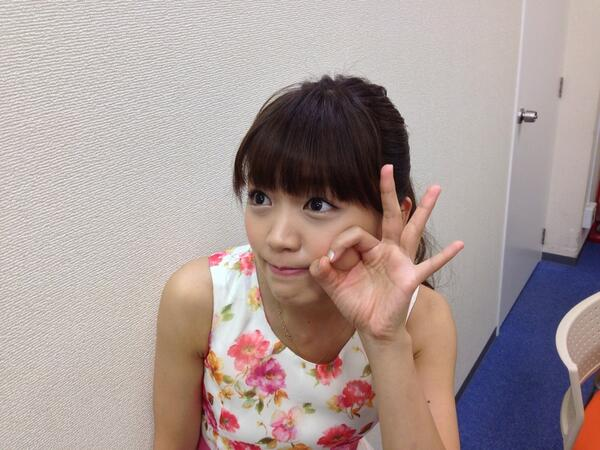face: (246, 158, 383, 302)
hand: (308, 162, 465, 339)
